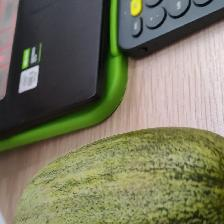gua: (35, 152, 215, 217)
